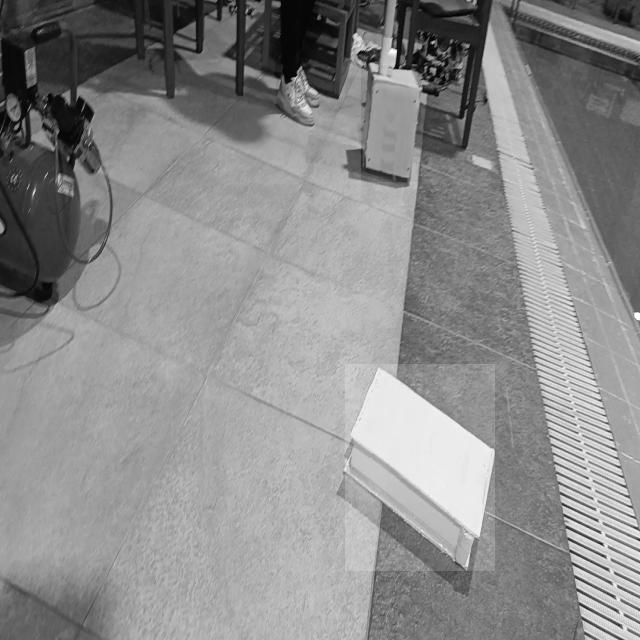Cube: (361, 65, 421, 182)
Cuboid: (345, 364, 495, 571)
